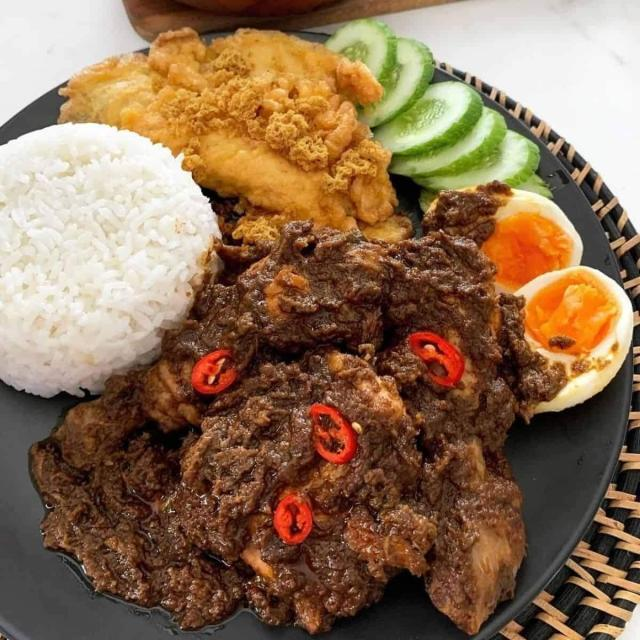Rendang: (22, 228, 573, 639)
